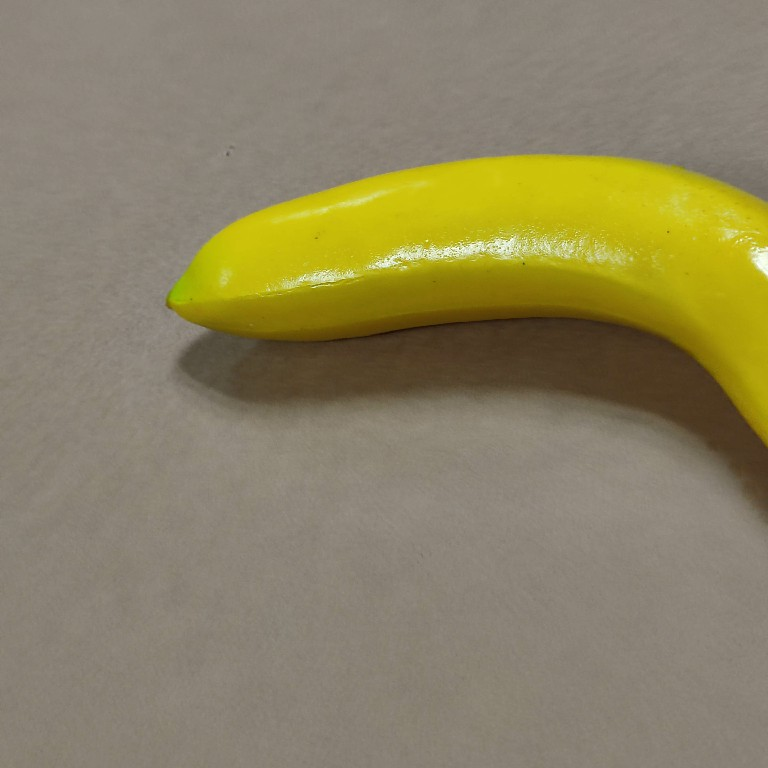fruit_banana: (161, 149, 768, 474)
